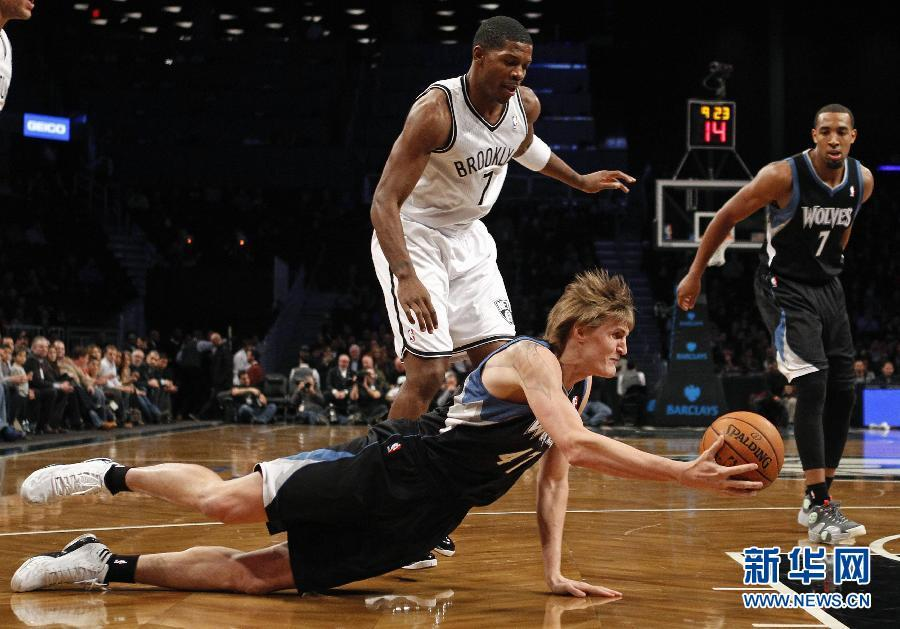bending: (354, 18, 615, 442), (677, 92, 881, 548)
down: (1, 281, 653, 603)
